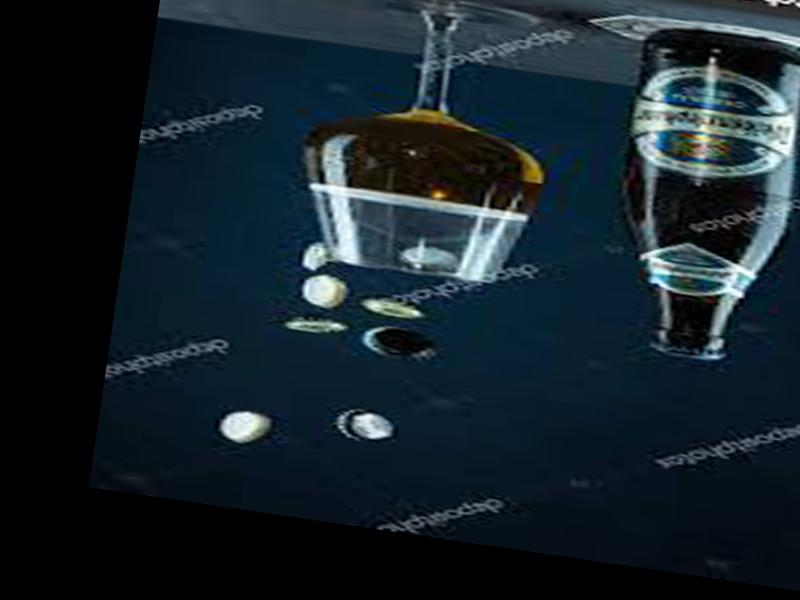Beer: (604, 26, 800, 365)
